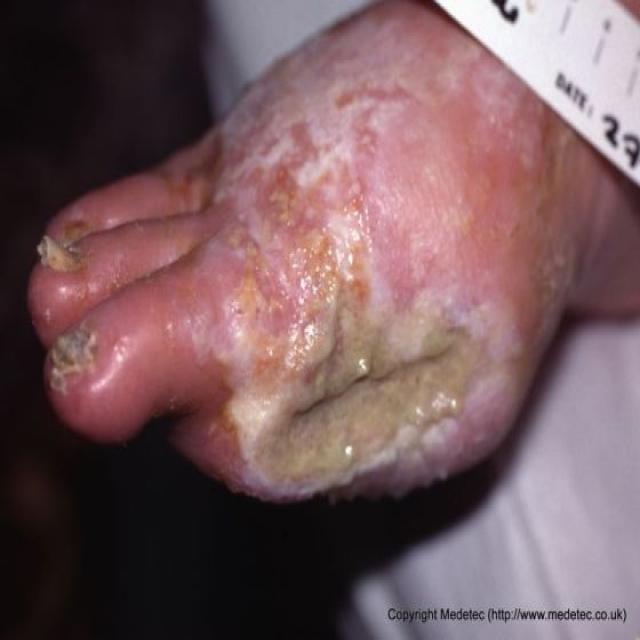wound: (191, 215, 522, 491)
